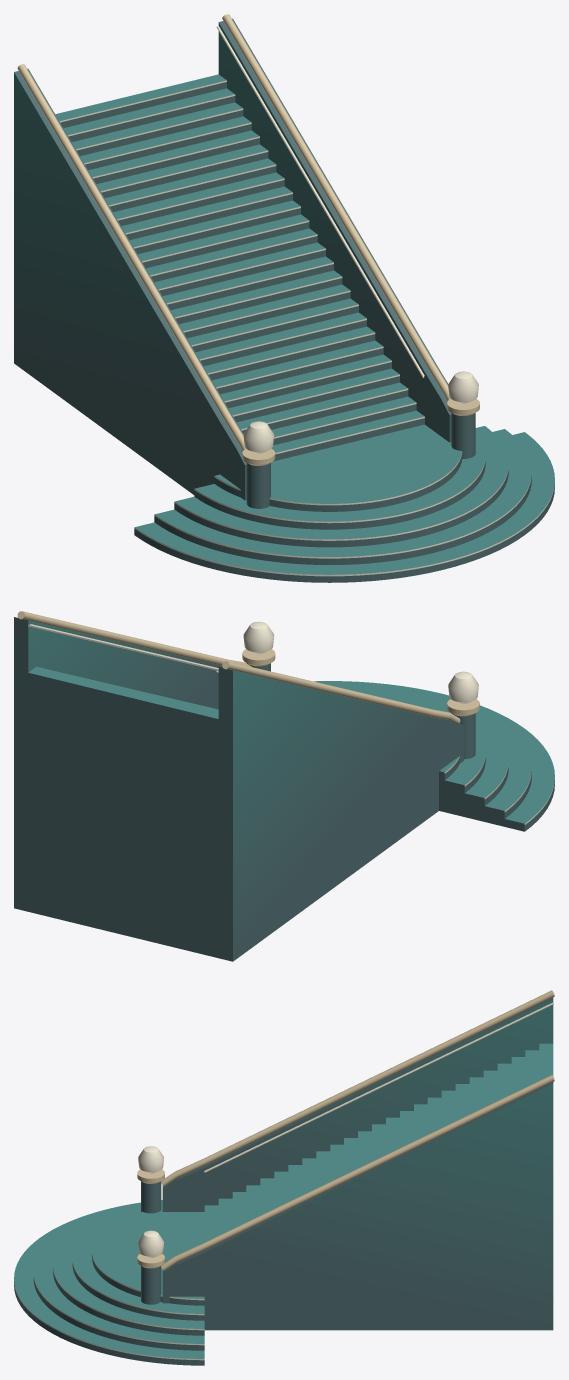
Rendered from KC32__AD_Arc_Stair_Grand_Violet.glb.
The picture shows the model from 3 angles, top to bottom: view 1: azimuth 30°, elevation 25°; view 2: azimuth 150°, elevation 25°; view 3: azimuth 270°, elevation 25°; orthographic projection. The views are drawn at different scales.
Parts seen in each view (by area): view 1: KC32_CORPS__AD_Arc_Stair_Grand_Violet, KC32_LUMIERE__AD_Arc_Stair_Grand_Violet, KC32_BRONZE__AD_Arc_Stair_Grand_Violet; view 2: KC32_CORPS__AD_Arc_Stair_Grand_Violet, KC32_BRONZE__AD_Arc_Stair_Grand_Violet, KC32_LUMIERE__AD_Arc_Stair_Grand_Violet; view 3: KC32_CORPS__AD_Arc_Stair_Grand_Violet, KC32_BRONZE__AD_Arc_Stair_Grand_Violet, KC32_LUMIERE__AD_Arc_Stair_Grand_Violet.
Part boxes in pixels (<box>): KC32_CORPS__AD_Arc_Stair_Grand_Violet: <box>14,18,554,582</box>; KC32_LUMIERE__AD_Arc_Stair_Grand_Violet: <box>59,26,554,576</box>; KC32_BRONZE__AD_Arc_Stair_Grand_Violet: <box>17,14,479,465</box>; KC32_CORPS__AD_Arc_Stair_Grand_Violet: <box>14,617,554,961</box>; KC32_BRONZE__AD_Arc_Stair_Grand_Violet: <box>17,611,479,723</box>; KC32_LUMIERE__AD_Arc_Stair_Grand_Violet: <box>28,621,554,824</box>; KC32_CORPS__AD_Arc_Stair_Grand_Violet: <box>14,997,553,1365</box>; KC32_BRONZE__AD_Arc_Stair_Grand_Violet: <box>137,990,554,1270</box>; KC32_LUMIERE__AD_Arc_Stair_Grand_Violet: <box>14,1002,553,1360</box>.
Bounding box in the file's own units: 8.2 × 5.99 × 11.64.
